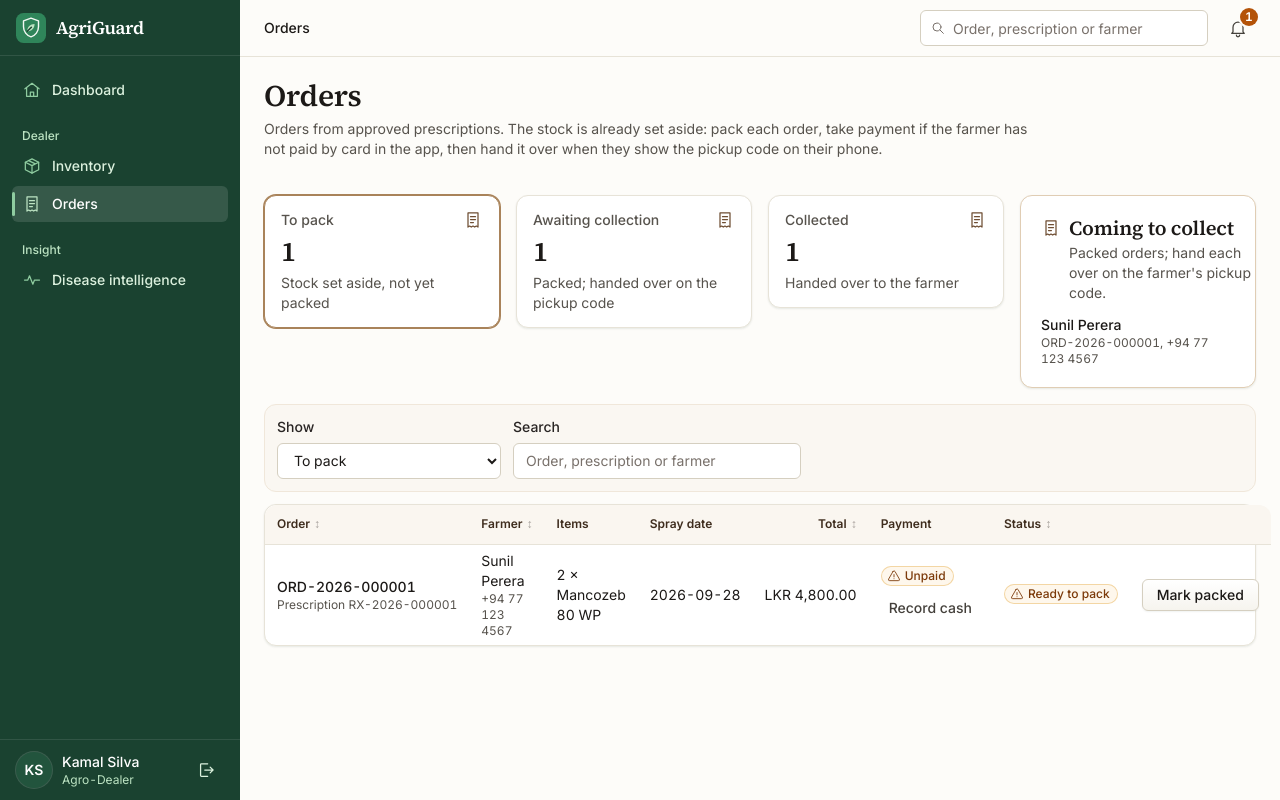
it: OrdersPage › shows why a step was refused
The image size is (1280, 800).
Click the button "Mark packed": (1200, 594) [1142,578,1259,610]
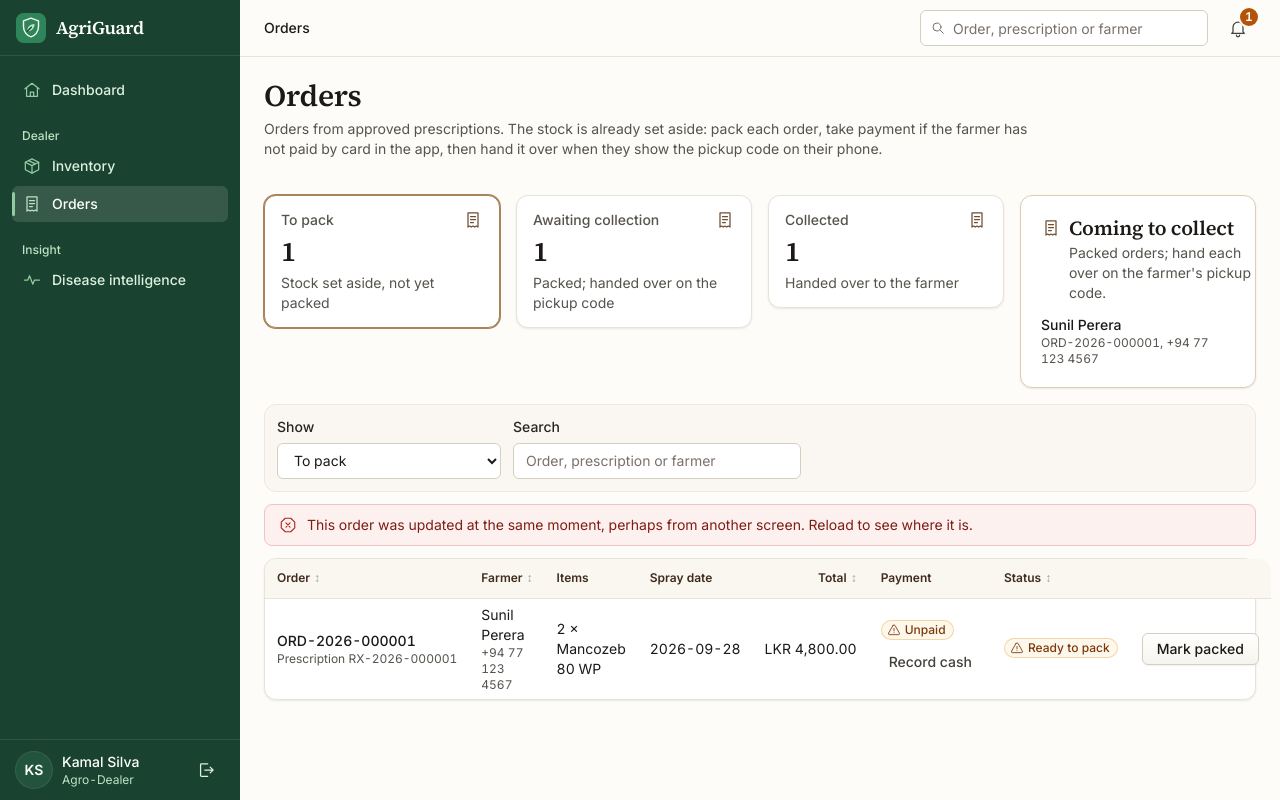
expect the text "updated at the same moment" is shown: met, box [307,516,973,532]
